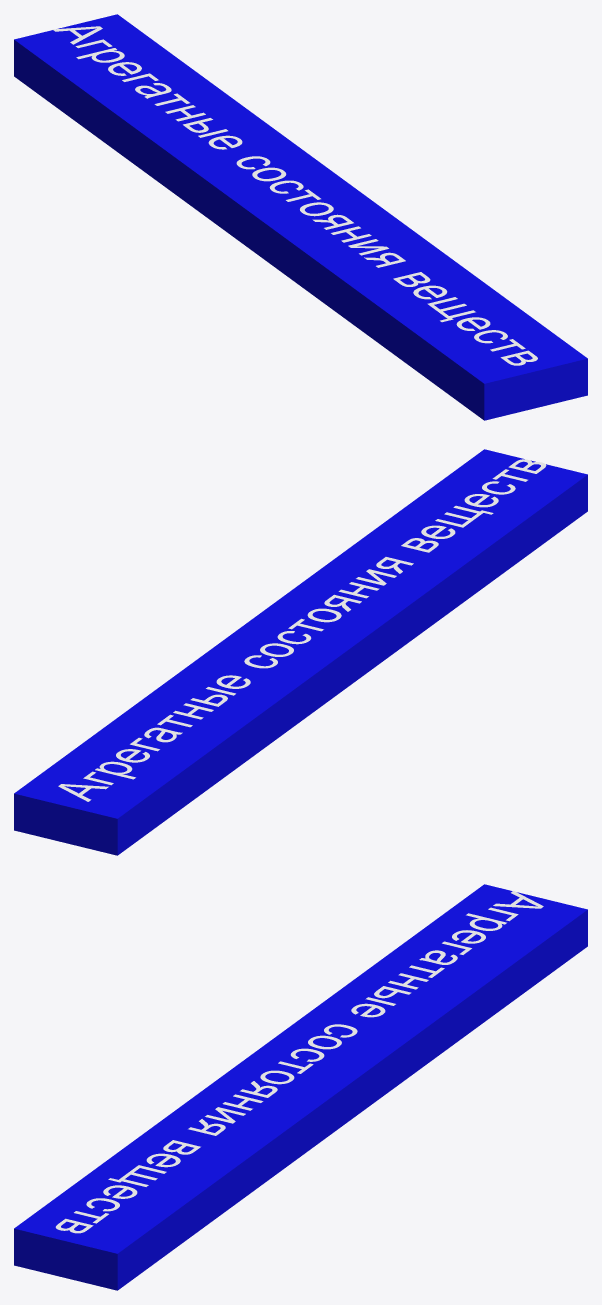
The model's file is agregatn.FBX.
The picture shows the model from 3 angles, top to bottom: view 1: azimuth 30°, elevation 25°; view 2: azimuth 150°, elevation 25°; view 3: azimuth 330°, elevation 25°; orthographic projection.
Visible parts, largest first — view 1: Text001; view 2: Text001; view 3: Text001.
Part boxes in pixels (x1,y1,x2,y2): Text001: (14, 14, 587, 420); Text001: (14, 449, 587, 855); Text001: (14, 884, 587, 1290).
Size of the model in its own units: 18.63 by 7.23 by 147.
